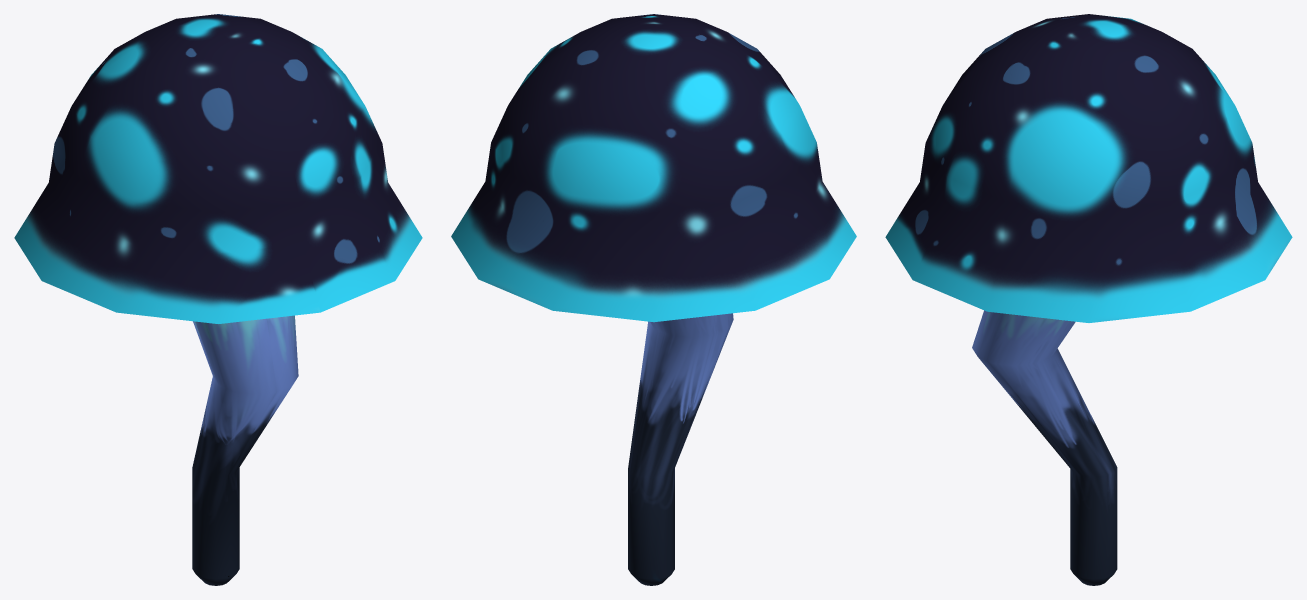
Rendered from SM_Mushroom.fbx.
3 renders of one model, left to right at view 1: azimuth 30°, elevation 25°; view 2: azimuth 150°, elevation 25°; view 3: azimuth 270°, elevation 25°, orthographic.
Visible parts, largest first — view 1: pSphere2; view 2: pSphere2; view 3: pSphere2.
Part boxes in pixels (x1=…): pSphere2: x1=14, y1=14, x2=422, y2=585; pSphere2: x1=451, y1=14, x2=856, y2=585; pSphere2: x1=885, y1=14, x2=1292, y2=585.
Size of the model in its own units: 2.41 by 3.6 by 2.41.
